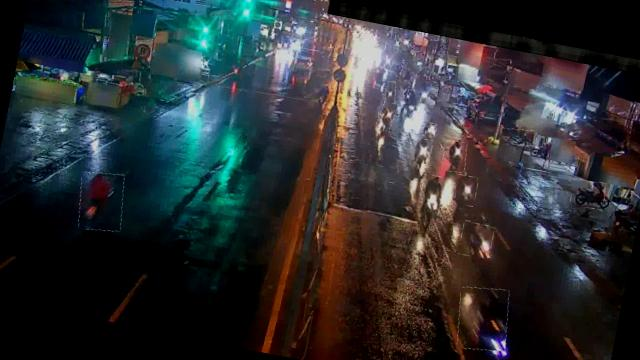Bike: (452, 282, 514, 355), (74, 168, 128, 234), (456, 220, 494, 260), (416, 174, 446, 223), (569, 178, 607, 211), (441, 139, 469, 174), (498, 125, 538, 149), (454, 174, 480, 206), (376, 100, 398, 133), (402, 89, 422, 119), (410, 137, 432, 163), (383, 80, 397, 104), (422, 122, 437, 138)
